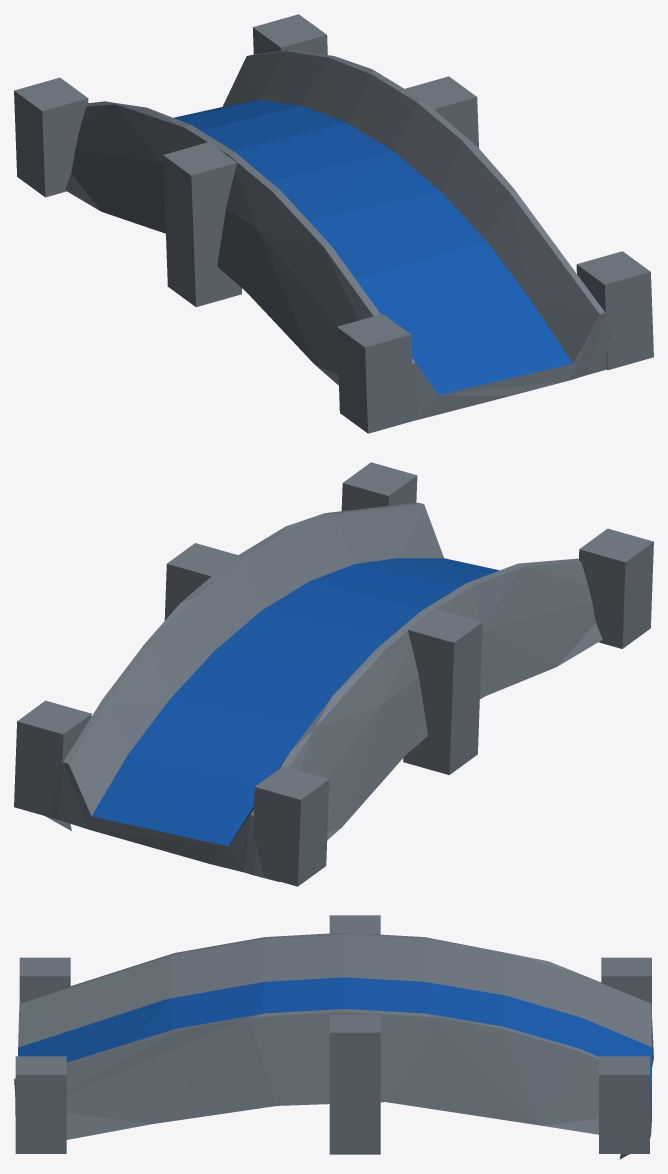
Rendered from blueStreet.fbx.
The picture shows the model from 3 angles, top to bottom: view 1: azimuth 30°, elevation 25°; view 2: azimuth 150°, elevation 25°; view 3: azimuth 270°, elevation 25°; orthographic projection. The views are drawn at different scales.
Visible parts, largest first — view 1: Torus; view 2: Torus; view 3: Torus.
Boxes of the visible parts, x1,y1,x2,y2 form: Torus: (14, 14, 653, 433); Torus: (14, 462, 653, 886); Torus: (14, 915, 653, 1159).
Bounding box in the file's own units: 28.19 × 14.91 × 59.68.
